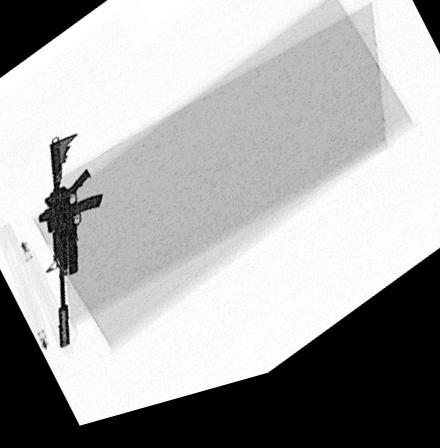Gun: (37, 137, 102, 352)
